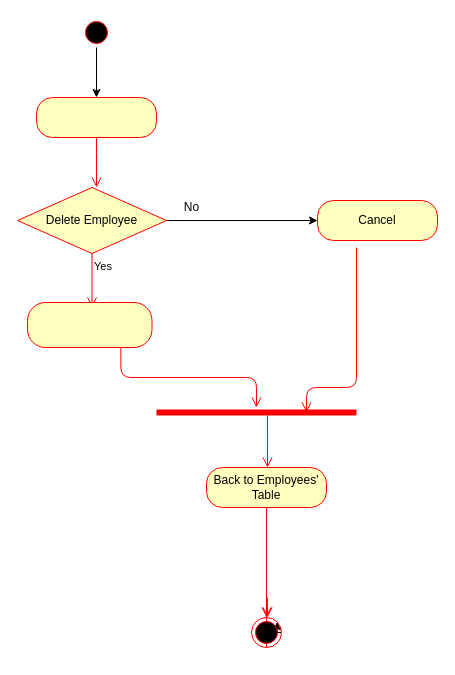
Image size: 455x675. Some labels were removed from this diagram. The shapes that lost their labels are listed below. From the top down, each one's centre as x and y in pixels, then its label:
(96,117): Go to Employees' Table
(89,325): Employee Deleted from the Database
